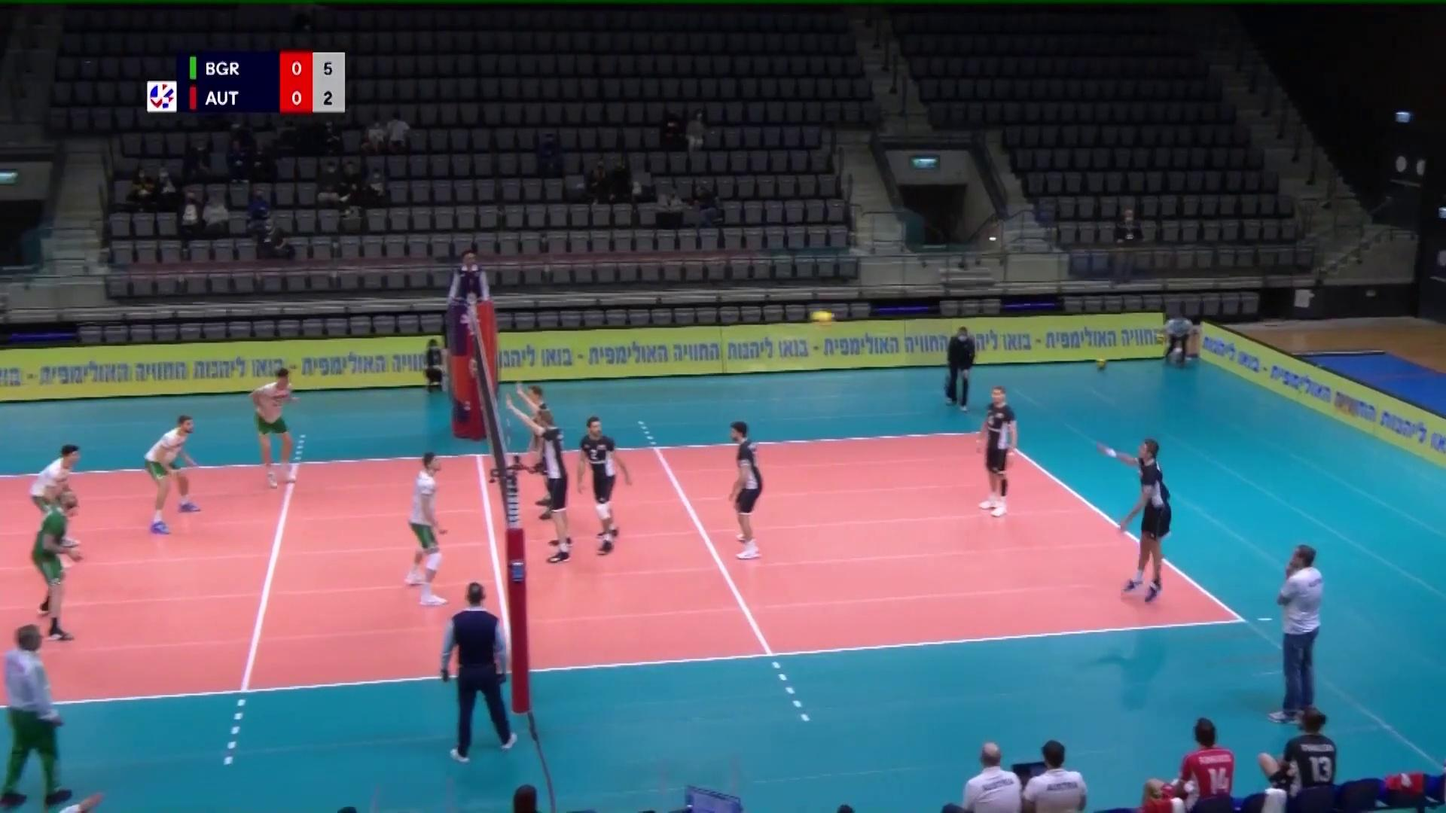ball: (812, 310, 834, 323)
